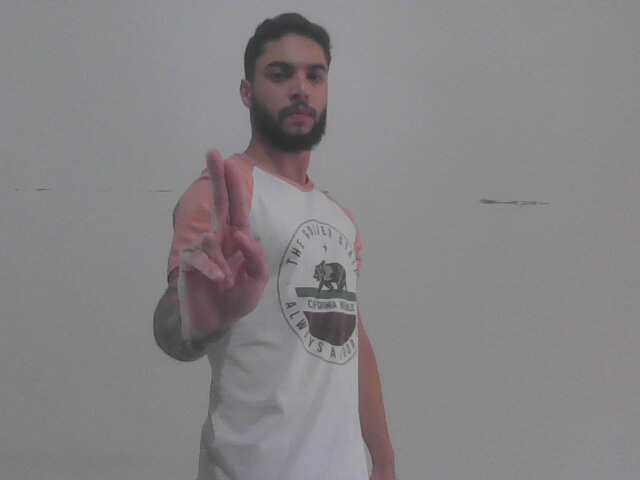u: (172, 141, 277, 342)
